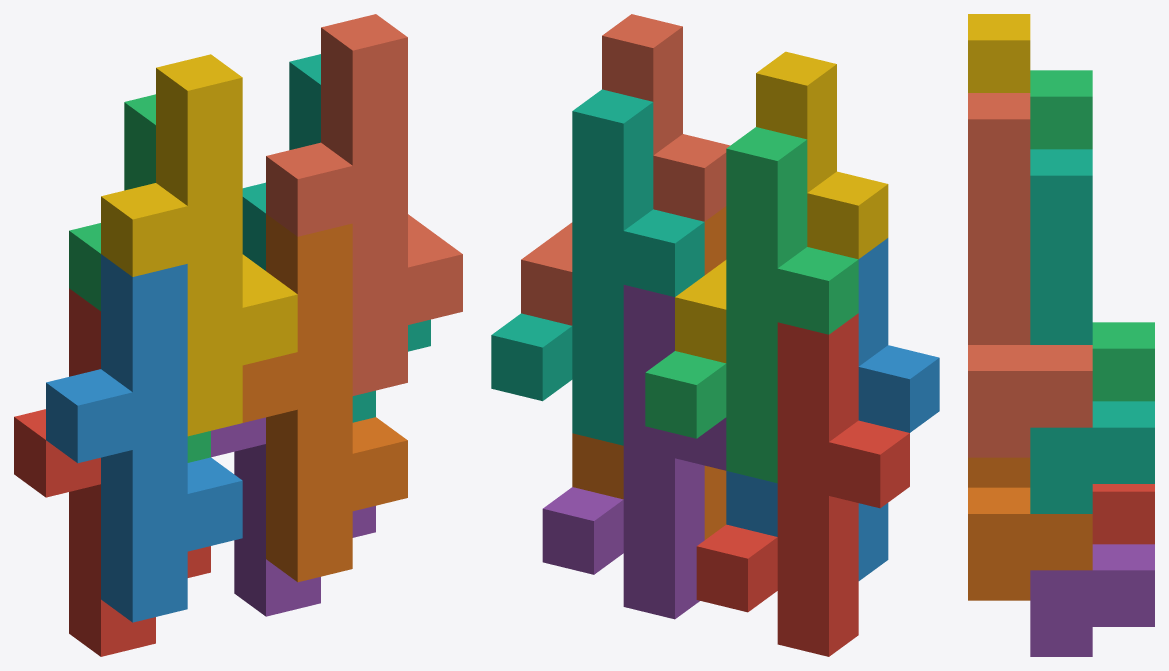
The model's file is tiling.obj.
3 renders of one model, left to right at view 1: azimuth 30°, elevation 25°; view 2: azimuth 150°, elevation 25°; view 3: azimuth 270°, elevation 25°, orthographic. The views are drawn at different scales.
Visible parts, largest first — view 1: copy_1_domain_2, copy_1_domain_8, copy_1_domain_4, copy_1_domain_6, copy_1_domain_1, copy_1_domain_5, copy_1_domain_7, copy_1_domain_3; view 2: copy_1_domain_1, copy_1_domain_3, copy_1_domain_7, copy_1_domain_5, copy_1_domain_4, copy_1_domain_8, copy_1_domain_2, copy_1_domain_6; view 3: copy_1_domain_8, copy_1_domain_7, copy_1_domain_6, copy_1_domain_5, copy_1_domain_3, copy_1_domain_4, copy_1_domain_1.
Boxes of the visible parts, box(x1,y1,x2,y2) form: copy_1_domain_2: box(46, 254, 242, 622); copy_1_domain_8: box(266, 14, 462, 395); copy_1_domain_4: box(101, 54, 297, 436); copy_1_domain_6: box(242, 214, 407, 582); copy_1_domain_1: box(14, 288, 210, 656); copy_1_domain_5: box(211, 417, 375, 616); copy_1_domain_7: box(242, 54, 430, 422); copy_1_domain_3: box(69, 94, 210, 462); copy_1_domain_1: box(696, 313, 909, 656); copy_1_domain_3: box(645, 127, 858, 483); copy_1_domain_7: box(491, 89, 704, 445); copy_1_domain_5: box(542, 285, 726, 619); copy_1_domain_4: box(675, 51, 888, 363); copy_1_domain_8: box(521, 14, 730, 325); copy_1_domain_2: box(726, 238, 939, 580); copy_1_domain_6: box(572, 206, 726, 539); copy_1_domain_8: box(968, 93, 1092, 457); copy_1_domain_7: box(1030, 149, 1154, 513); copy_1_domain_6: box(968, 457, 1092, 600); copy_1_domain_5: box(1030, 544, 1154, 656); copy_1_domain_3: box(1030, 70, 1154, 401); copy_1_domain_4: box(968, 14, 1030, 92); copy_1_domain_1: box(1092, 484, 1154, 544).
Bounding box in the file's own units: 7 × 10 × 3.
